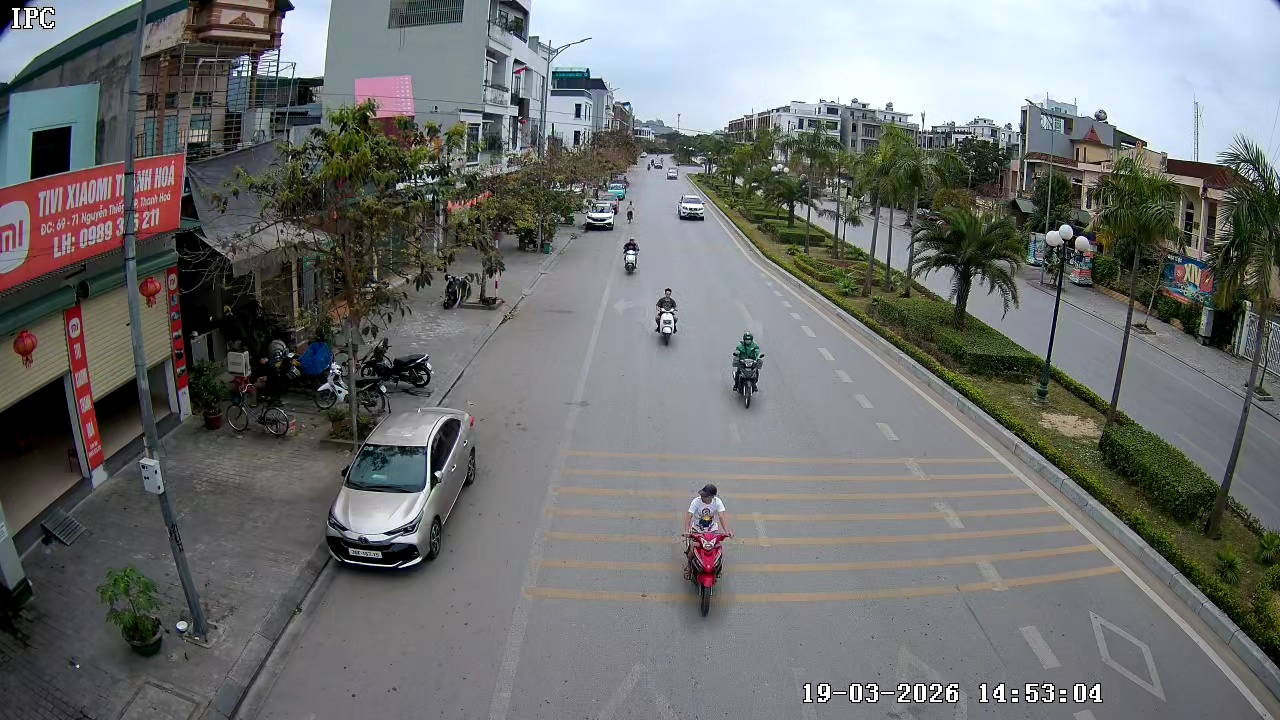bike: (676, 480, 734, 618)
car: (325, 404, 478, 572), (584, 199, 619, 232), (675, 192, 707, 222)
motorbike: (676, 480, 733, 619), (359, 317, 434, 392), (729, 329, 766, 410), (652, 286, 681, 347), (621, 236, 640, 276), (622, 190, 636, 222)
